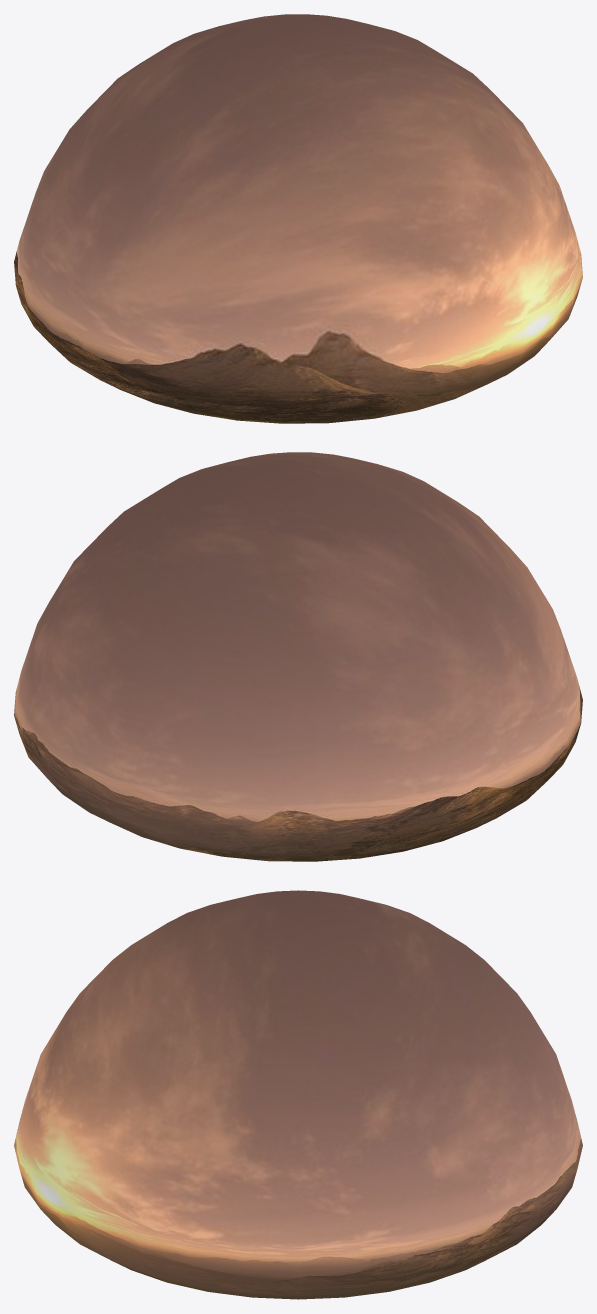
Rendered from courtyard.glb.
3 renders of one model, top to bottom at view 1: azimuth 30°, elevation 25°; view 2: azimuth 150°, elevation 25°; view 3: azimuth 270°, elevation 25°, orthographic.
Parts seen in each view (by area): view 1: Sphere_Material_0; view 2: Sphere_Material_0; view 3: Sphere_Material_0.
Boxes of the visible parts, box(x1,y1,x2,y2) form: Sphere_Material_0: box(14, 14, 582, 423); Sphere_Material_0: box(14, 452, 582, 861); Sphere_Material_0: box(14, 890, 582, 1299).
Size of the model in its own units: 60.97 by 38.54 by 60.97.
Materials: 8 (7 with a texture image).
